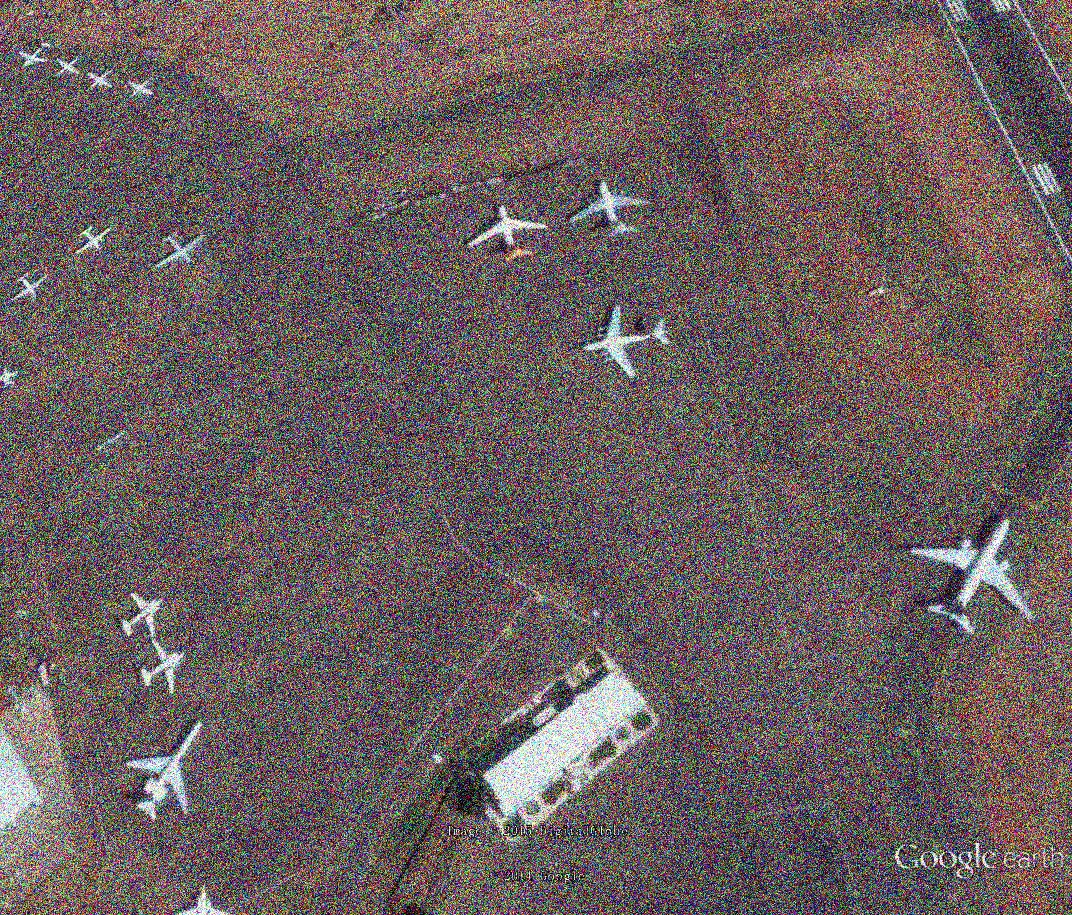aircraft: (900, 511, 1042, 642), (118, 714, 211, 826), (574, 301, 678, 381), (460, 198, 558, 265), (564, 175, 658, 244), (131, 637, 191, 702), (113, 589, 169, 640), (149, 228, 208, 270), (14, 37, 56, 75), (8, 271, 53, 303), (73, 223, 113, 258), (53, 52, 88, 79), (85, 66, 118, 93), (124, 76, 157, 100), (1, 366, 20, 393)
